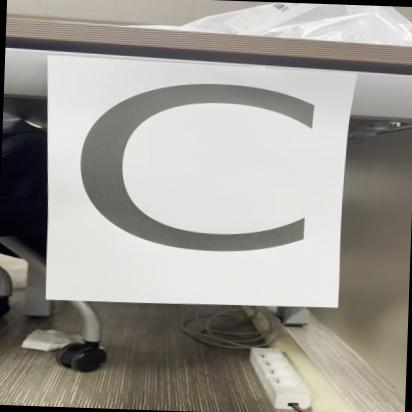seat: (44, 55, 349, 306)
